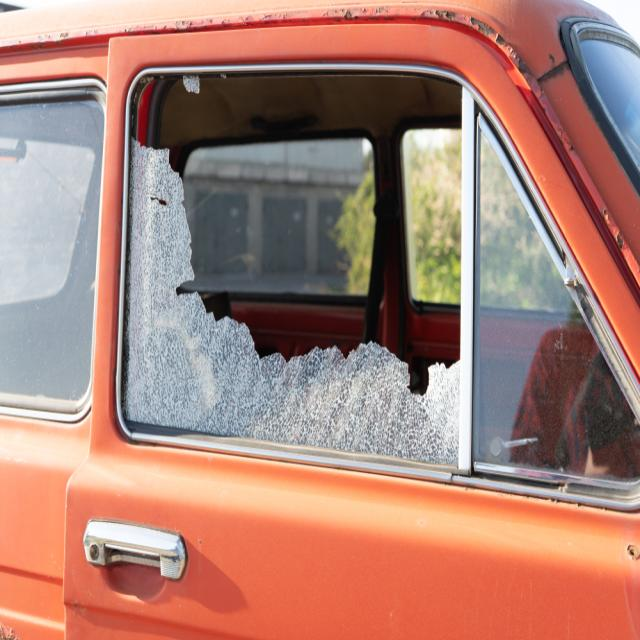glass shatter: (122, 72, 462, 467)
